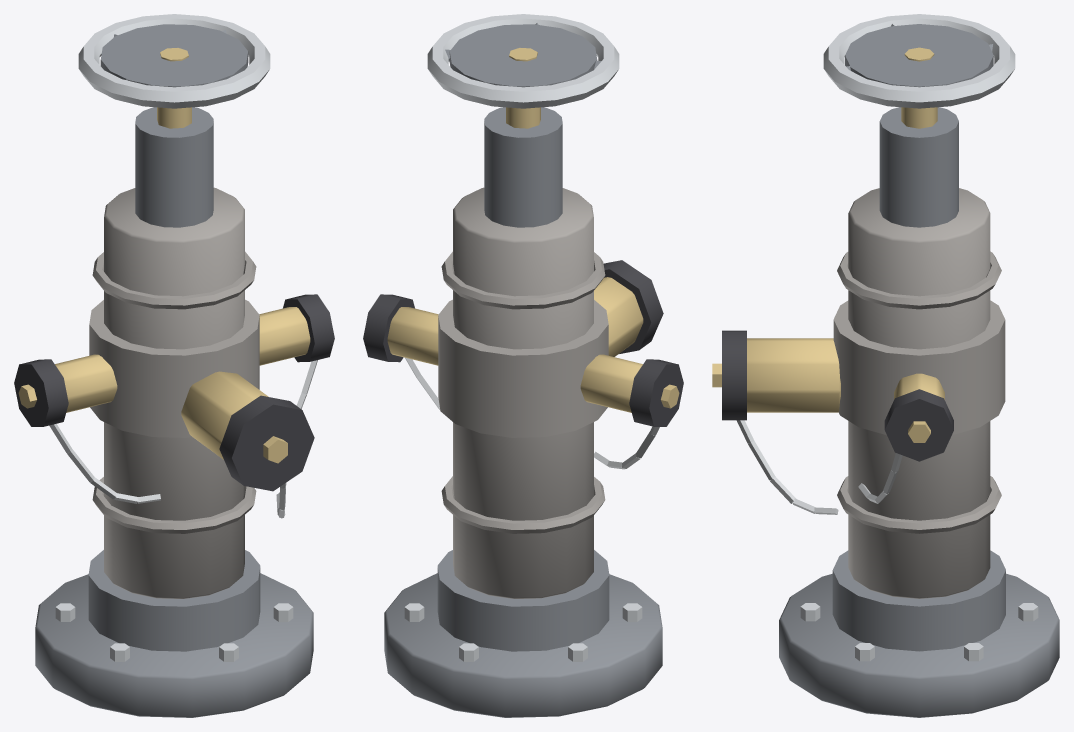
The model's file is FireHydrant_Silver.fbx.
3 renders of one model, left to right at view 1: azimuth 30°, elevation 25°; view 2: azimuth 150°, elevation 25°; view 3: azimuth 270°, elevation 25°, orthographic.
Parts seen in each view (by area): view 1: LOD0; view 2: LOD0; view 3: LOD0.
Part boxes in pixels (<box>): LOD0: <box>14,14,334,717</box>; LOD0: <box>363,14,683,717</box>; LOD0: <box>712,14,1059,717</box>.
Size of what is drawn, in the model's own units: 42 by 81.13 by 42.1.
